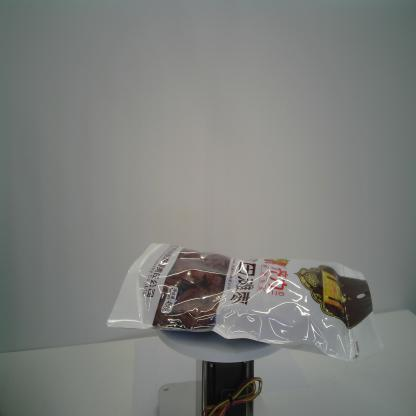Dried Food: (103, 239, 386, 369)
